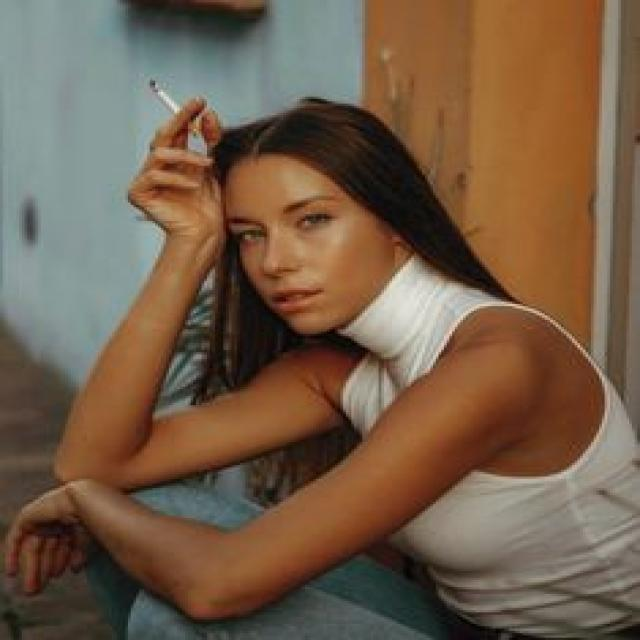rokok: (150, 82, 200, 132)
